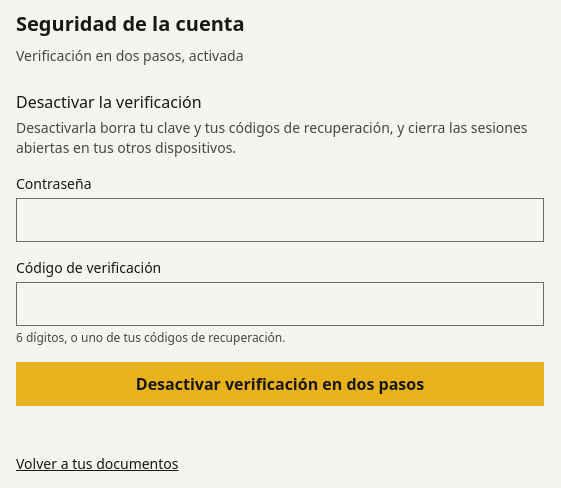
it: SecurityPage — baja de MFA (AC-19 desde la UI) › con MFA activo pide contraseña y código, y al confirmar vuelve al estado sin MFA
The image size is (561, 488).
Expected: the message shows "pasos, activada", [16,46,244,65]
Step 1. Type "contrasena-1234" into the password field labelled "Contraseña" → (280, 220), box [16,198,544,242]
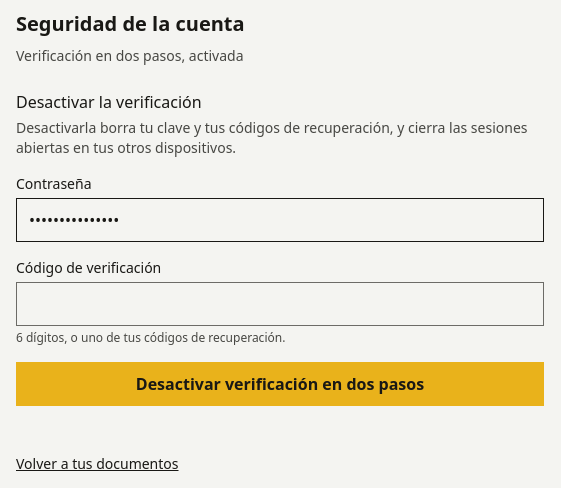
Step 2. Type "123456" into the field labelled "Código de verificación" → (280, 304), box [16,282,544,326]
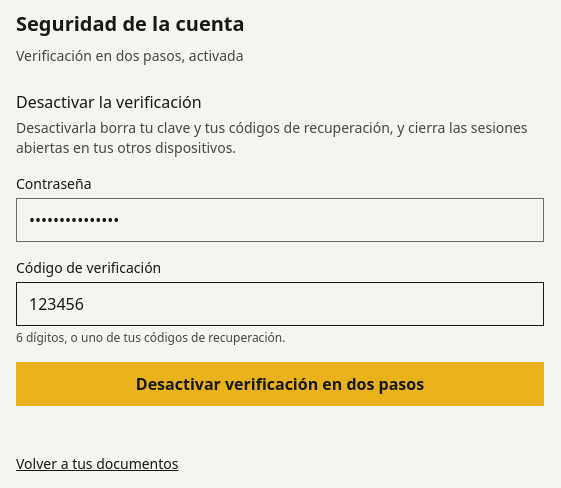
Step 3. Click the button "Desactivar verificación en dos pasos" → (280, 384), box [16,362,544,406]
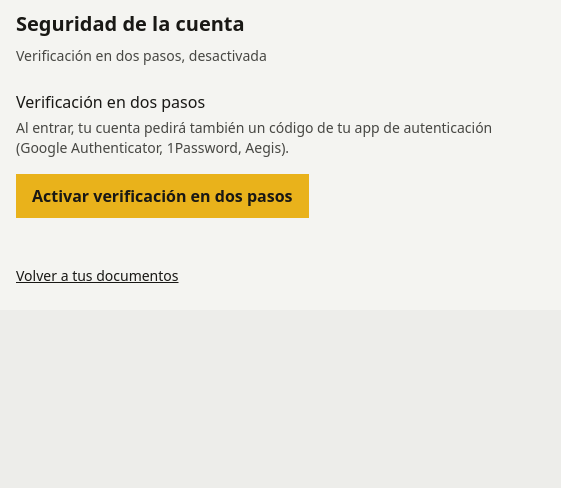
Expected: the message shows "pasos, desactivada", [16,46,267,65]
Expected: the button "Activar verificación en dos pasos" is shown, [16,174,308,218]
